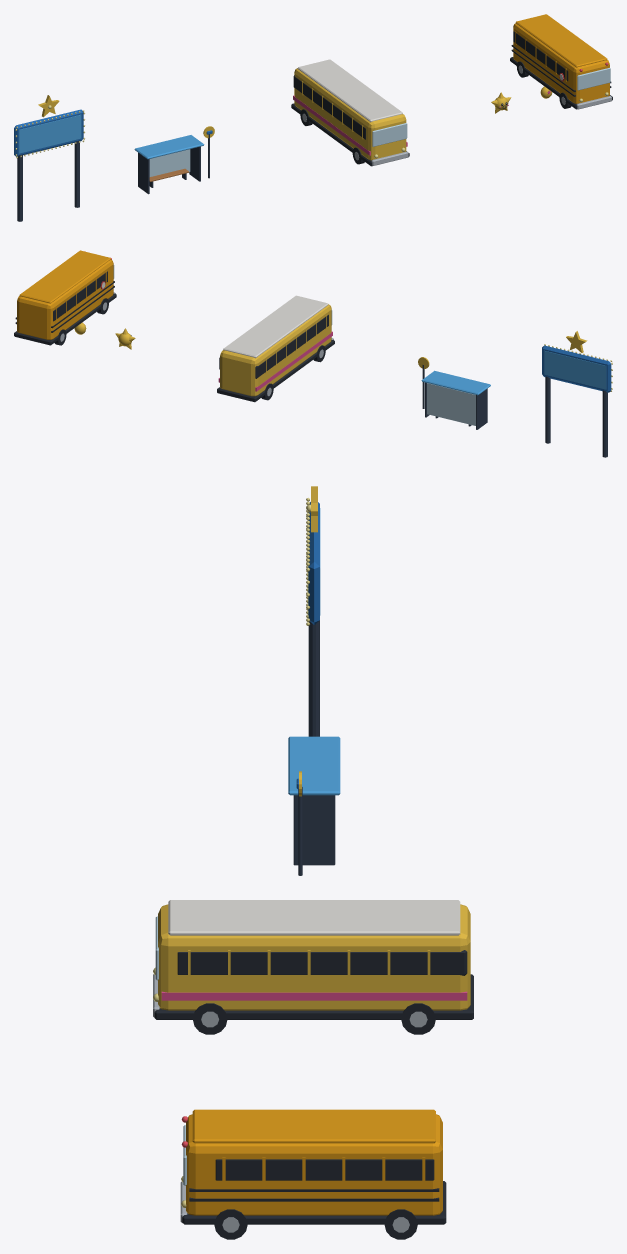
File: park-lakeside.glb
The picture shows the model from 3 angles, top to bottom: view 1: azimuth 30°, elevation 25°; view 2: azimuth 150°, elevation 25°; view 3: azimuth 270°, elevation 25°; orthographic projection. The views are drawn at different scales.
Parts seen in each view (by area): view 1: pk_bus_mesh, pk_schoolbus_mesh, pk_sign_mesh, pk_busstop_mesh; view 2: pk_bus_mesh, pk_schoolbus_mesh, pk_busstop_mesh, pk_sign_mesh; view 3: pk_bus_mesh, pk_schoolbus_mesh, pk_busstop_mesh, pk_sign_mesh.
Part boxes in pixels (left/top/right/bottom): pk_bus_mesh: left=291, top=59, right=409, bottom=166; pk_schoolbus_mesh: left=510, top=14, right=612, bottom=109; pk_sign_mesh: left=14, top=109, right=84, bottom=221; pk_busstop_mesh: left=134, top=126, right=214, bottom=194; pk_bus_mesh: left=217, top=295, right=334, bottom=402; pk_schoolbus_mesh: left=14, top=250, right=116, bottom=345; pk_busstop_mesh: left=418, top=357, right=490, bottom=429; pk_sign_mesh: left=542, top=344, right=612, bottom=457; pk_bus_mesh: left=153, top=900, right=473, bottom=1019; pk_schoolbus_mesh: left=180, top=1109, right=446, bottom=1224; pk_busstop_mesh: left=288, top=736, right=340, bottom=875; pk_sign_mesh: left=306, top=498, right=320, bottom=736.
Bounding box in the file's own units: 37.57 × 8.07 × 9.25.
